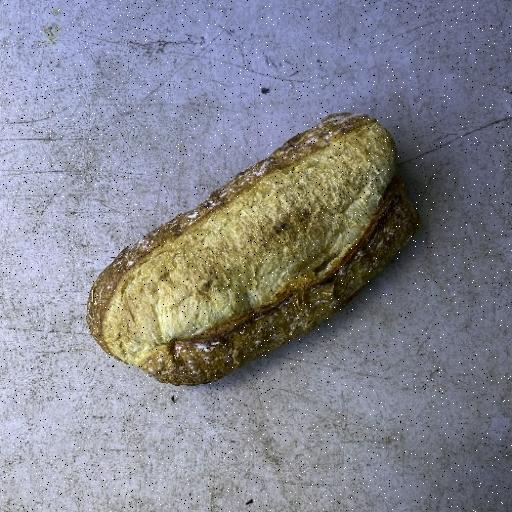Waste: (84, 109, 422, 387)
